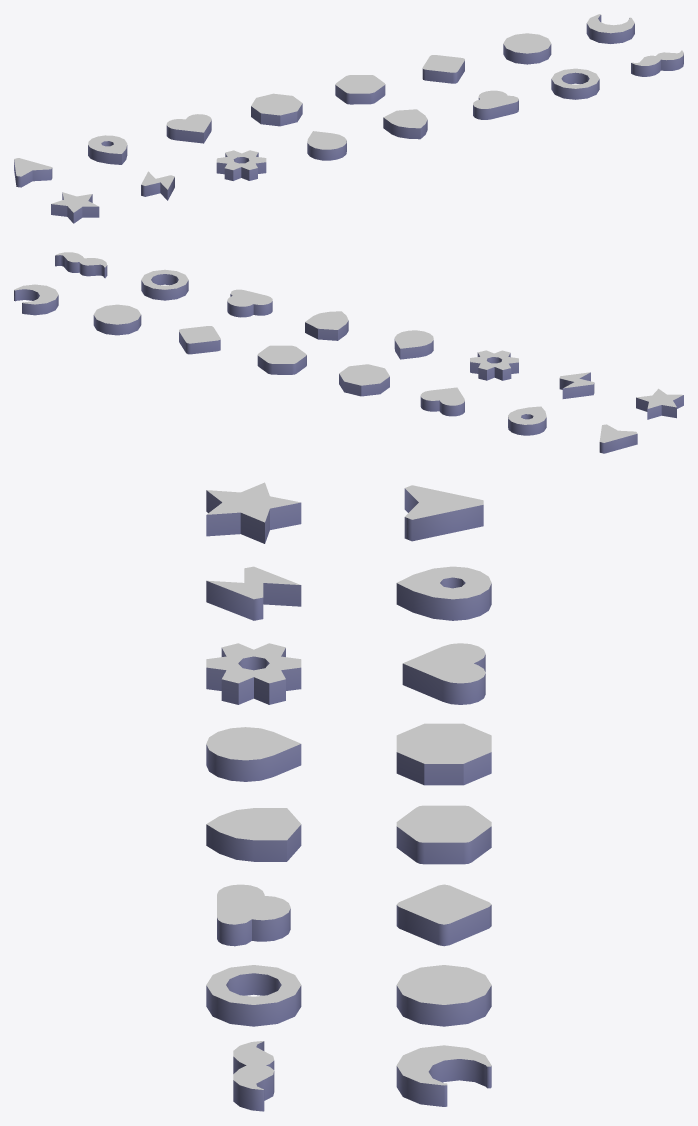
Rendered from studio-shapes.glb.
3 renders of one model, top to bottom at view 1: azimuth 30°, elevation 25°; view 2: azimuth 150°, elevation 25°; view 3: azimuth 270°, elevation 25°, orthographic. The views are drawn at different scales.
Visible parts, largest first — view 1: shape-octagon, shape-circle, shape-ring, shape-hexagon, shape-cog, shape-shield, shape-cloud, shape-heart, shape-diamond (%thumbnail), shape-moon, shape-pin, shape-drop (+4 smaller); view 2: shape-octagon, shape-circle, shape-hexagon, shape-ring, shape-cog, shape-moon, shape-shield, shape-cloud, shape-heart, shape-diamond (%thumbnail), shape-drop, shape-pin (+4 smaller); view 3: shape-octagon, shape-circle, shape-ring, shape-hexagon, shape-cog, shape-shield, shape-pin, shape-drop, shape-diamond (%thumbnail), shape-moon, shape-heart, shape-star (+4 smaller).
Part boxes in pixels (box(x1,y1,x2,y2)): shape-octagon: box(251, 93, 302, 126); shape-circle: box(503, 33, 551, 64); shape-ring: box(551, 68, 599, 99); shape-hexagon: box(335, 75, 385, 104); shape-cog: box(216, 150, 266, 180); shape-shield: box(383, 109, 427, 139); shape-cloud: box(473, 90, 518, 119); shape-heart: box(166, 114, 211, 143); shape-diamond (%thumbnail): box(422, 55, 464, 83); shape-moon: box(586, 14, 634, 43); shape-pin: box(88, 135, 127, 164); shape-drop: box(307, 131, 346, 160); shape-octagon: box(339, 364, 389, 396); shape-circle: box(93, 304, 141, 335); shape-hexagon: box(257, 345, 306, 374); shape-ring: box(141, 269, 188, 300); shape-cog: box(470, 350, 518, 380); shape-moon: box(14, 284, 58, 315); shape-shield: box(305, 311, 348, 340); shape-cloud: box(227, 289, 272, 317); shape-heart: box(420, 387, 464, 416); shape-diamond (%thumbnail): box(179, 326, 220, 354); shape-drop: box(394, 330, 433, 359); shape-pin: box(508, 406, 546, 435); shape-octagon: box(396, 723, 491, 785); shape-circle: box(396, 965, 491, 1026); shape-ring: box(206, 965, 301, 1026); shape-hexagon: box(396, 805, 491, 864); shape-cog: box(206, 643, 301, 704); shape-shield: box(206, 808, 301, 861); shape-pin: box(396, 566, 491, 620); shape-drop: box(206, 727, 301, 781); shape-diamond (%thumbnail): box(396, 884, 491, 946); shape-moon: box(396, 1045, 491, 1106); shape-heart: box(402, 643, 485, 704); shape-star: box(206, 482, 301, 543).
Size of the model in its own units: 3.78 by 0.0625 by 0.75.
